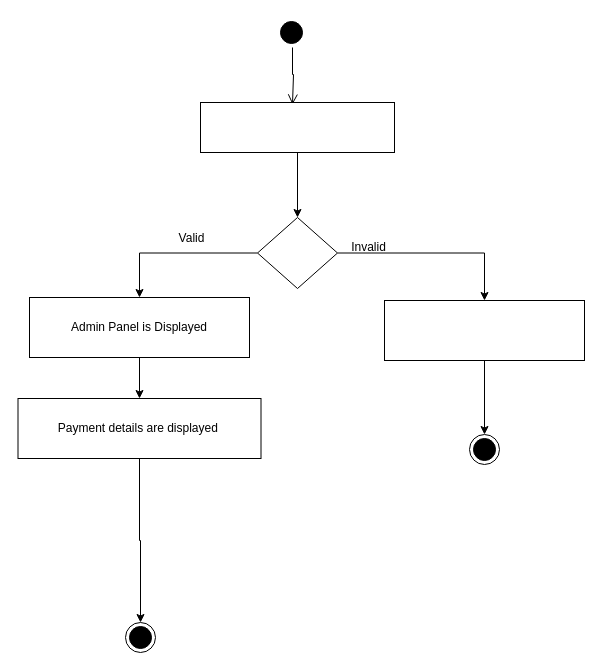
Some shapes in this 602 by 670 pixel diagram are drawn without their labels. The centre of each missing label's shape, as x and y in pixels:
"Enter Admins ID and Password" belongs at [297,127].
"Error message" belongs at [484,330].
